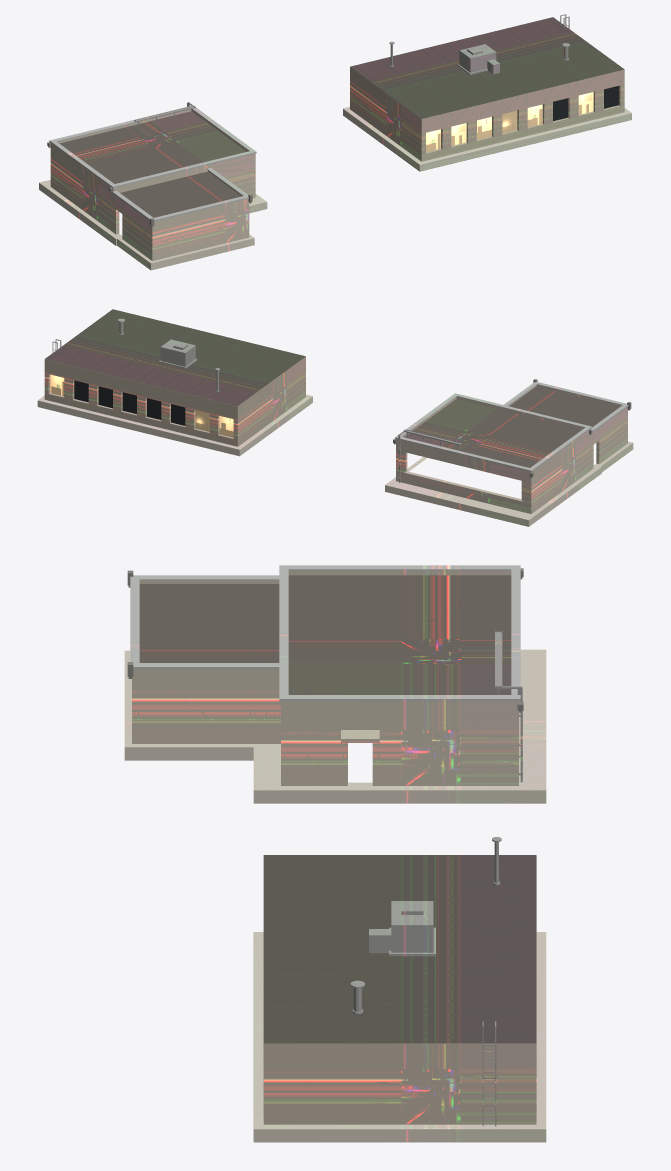
File: saro_house.glb
The picture shows the model from 3 angles, top to bottom: view 1: azimuth 30°, elevation 25°; view 2: azimuth 150°, elevation 25°; view 3: azimuth 270°, elevation 25°; orthographic projection. The views are drawn at different scales.
Parts seen in each view (by area): view 1: house, wing, glass_lit, glass_dark; view 2: wing, house, glass_dark, glass_lit; view 3: house, wing.
Part boxes in pixels (x1=…): house: x1=39, y1=14, x2=569, y2=270; wing: x1=343, y1=17, x2=631, y2=171; glass_lit: x1=426, y1=92, x2=593, y2=152; glass_dark: x1=553, y1=86, x2=618, y2=121; wing: x1=37, y1=309, x2=312, y2=456; house: x1=52, y1=318, x2=633, y2=526; glass_dark: x1=74, y1=380, x2=185, y2=425; glass_lit: x1=50, y1=374, x2=233, y2=437; house: x1=124, y1=565, x2=546, y2=1126; wing: x1=253, y1=855, x2=546, y2=1142.
Bounding box in the file's own units: 48.5 × 6.22 × 19.8.
